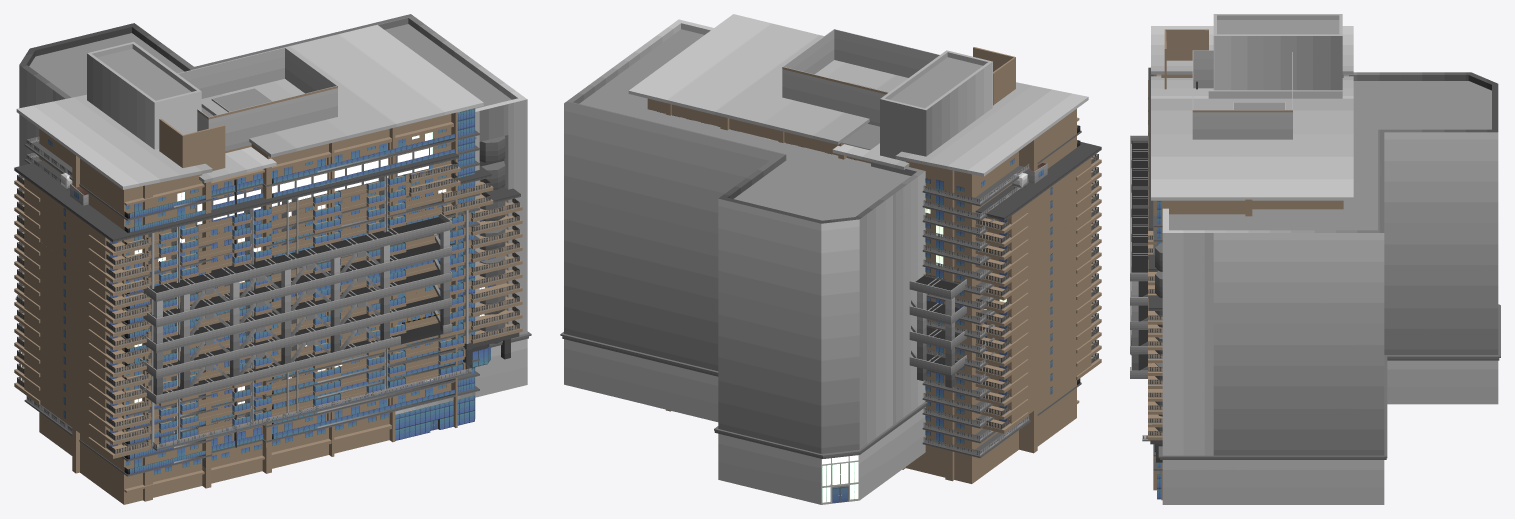
Rendered from Buildings.fbx.
The picture shows the model from 3 angles, left to right: view 1: azimuth 30°, elevation 25°; view 2: azimuth 150°, elevation 25°; view 3: azimuth 270°, elevation 25°; orthographic projection. The views are drawn at different scales.
Visible parts, largest first — view 1: Bilding.019, Bilding.018, Bilding.007, Bilding.006, Bilding.016, Bilding.017; view 2: Bilding.007, Bilding.019, Bilding.018, Bilding.016, Bilding.006, Bilding.015; view 3: Bilding.007, Bilding.019, Bilding.006, Bilding.016, Bilding.018, Bilding.015, Bilding.017.
Part boxes in pixels (<box>): Bilding.019: <box>16,24,483,504</box>; Bilding.018: <box>14,153,522,458</box>; Bilding.007: <box>15,14,531,415</box>; Bilding.006: <box>140,213,452,404</box>; Bilding.016: <box>178,47,337,153</box>; Bilding.017: <box>211,88,272,112</box>; Bilding.007: <box>560,19,1015,504</box>; Bilding.019: <box>628,14,1088,483</box>; Bilding.018: <box>975,141,1101,433</box>; Bilding.016: <box>782,29,939,126</box>; Bilding.006: <box>909,274,966,387</box>; Bilding.015: <box>841,123,879,149</box>; Bilding.007: <box>1155,14,1500,504</box>; Bilding.019: <box>1151,26,1353,500</box>; Bilding.006: <box>1130,135,1148,378</box>; Bilding.016: <box>1192,50,1292,139</box>; Bilding.018: <box>1142,67,1162,462</box>; Bilding.015: <box>1208,91,1342,98</box>; Bilding.017: <box>1233,102,1285,109</box>.
Size of the model in its own units: 6250 by 5180 by 4968.
